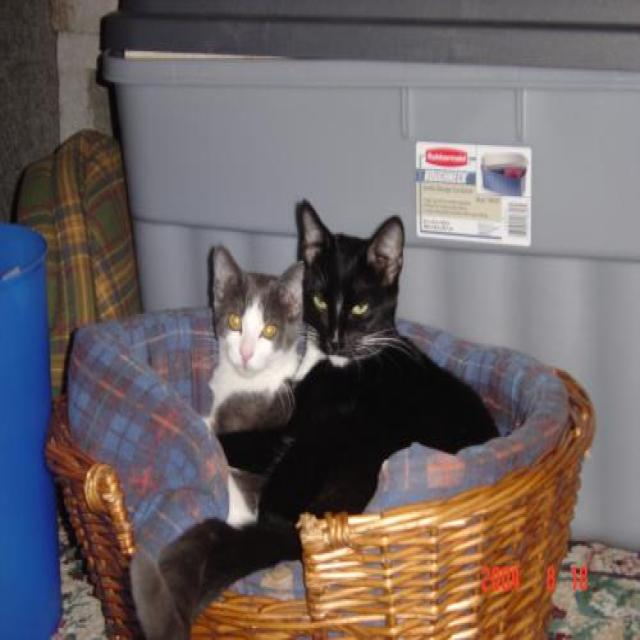Cats: (128, 198, 500, 638)
